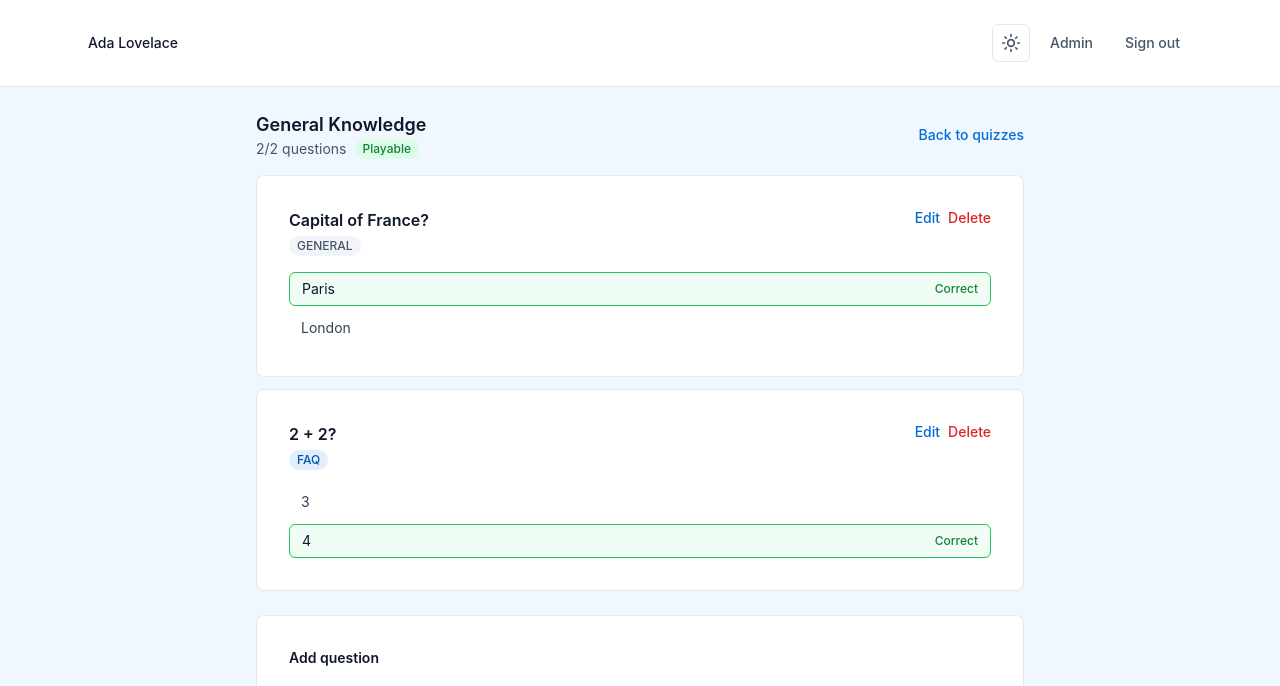
Test case: AdminQuestions › should_cancel_inline_edit_and_keep_original
The width and height of the screenshot is (1280, 686).
Expected: the text "Capital of France?" is shown, [289,208,429,232]
Click the button "Edit" in the row of "Capital of France?": x=927, y=218 [915,208,940,228]
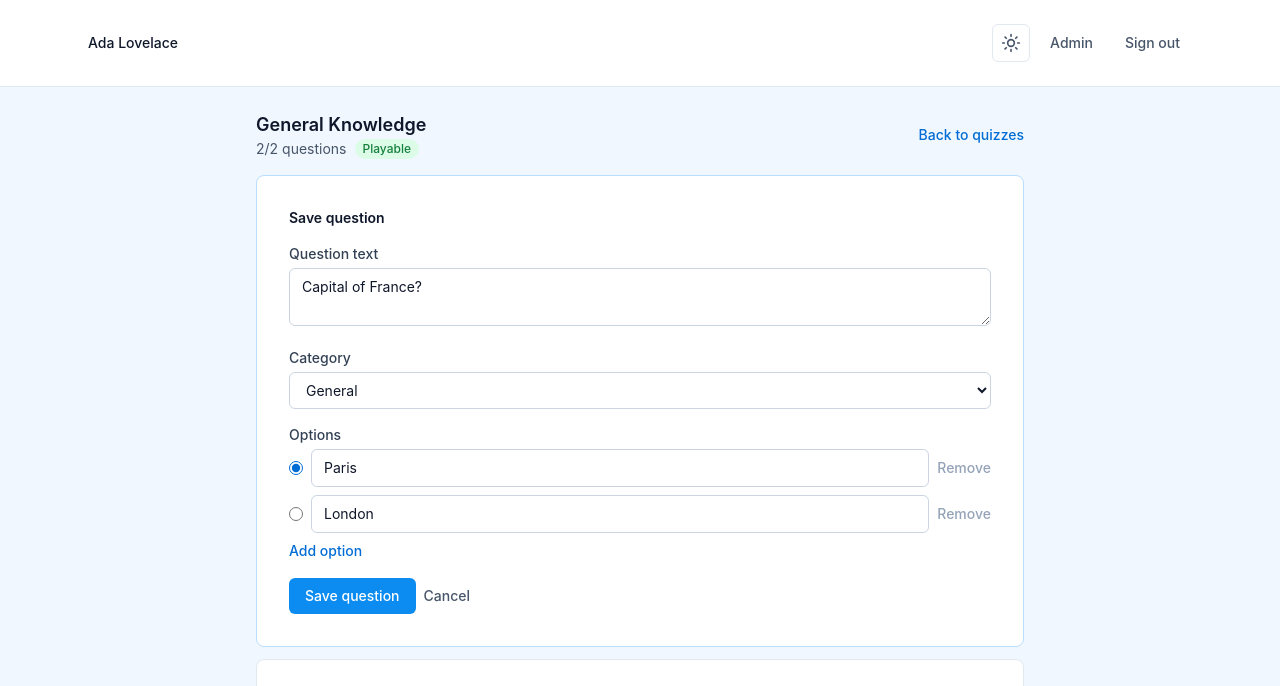
Click the button "Cancel": x=447, y=596 [424,586,470,606]
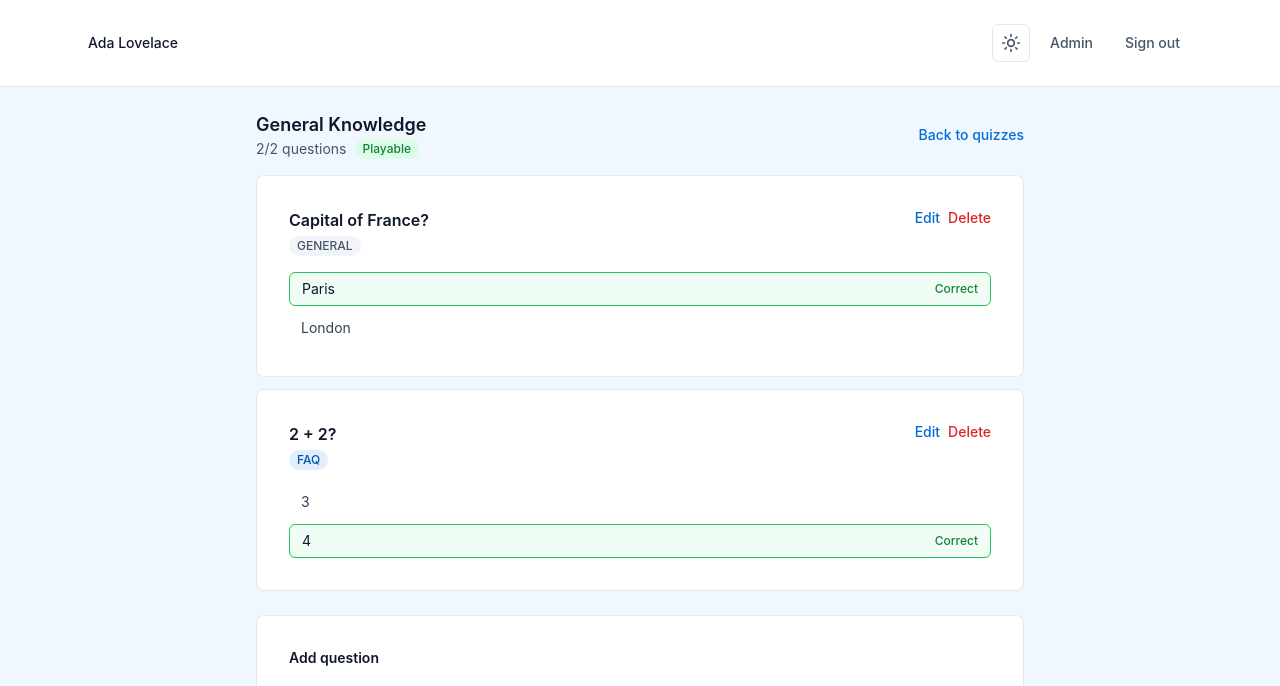
Expected: the text "Capital of France?" is shown, [289,208,429,232]
Expected: the heading "Save question" is gone
